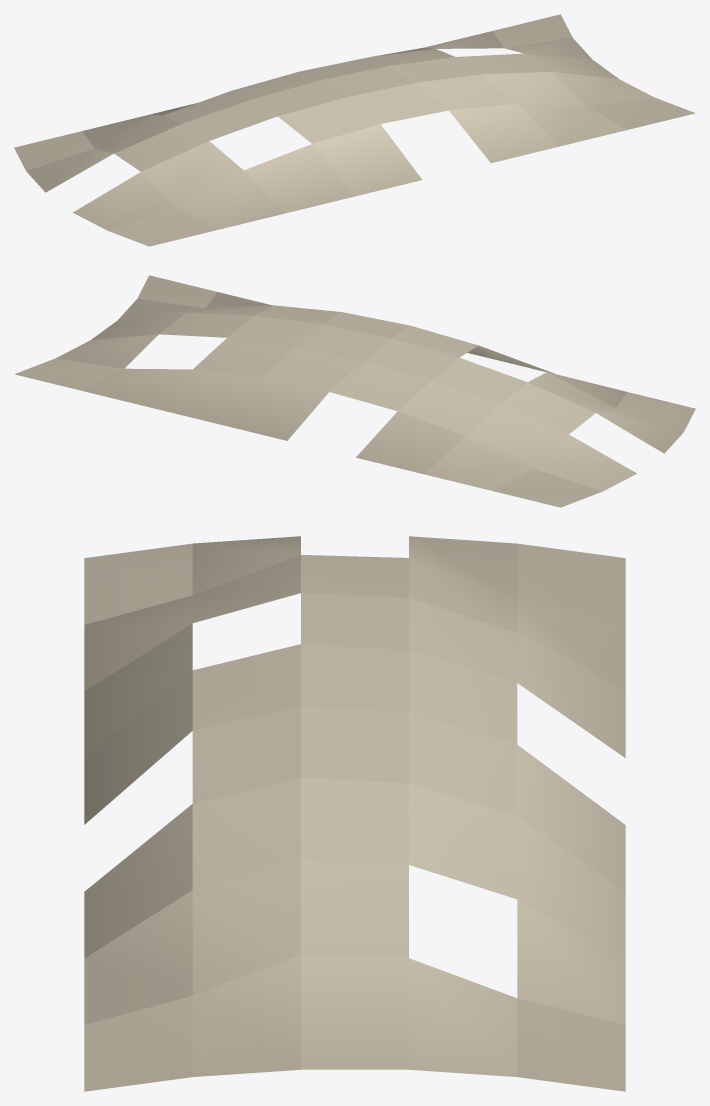
File: drift_2.glb
3 renders of one model, top to bottom at view 1: azimuth 30°, elevation 25°; view 2: azimuth 150°, elevation 25°; view 3: azimuth 270°, elevation 25°, orthographic. The views are drawn at different scales.
Parts seen in each view (by area): view 1: drift_2; view 2: drift_2; view 3: drift_2.
Boxes of the visible parts, x1,y1,x2,y2 form: drift_2: (14,14,695,246); drift_2: (14,275,695,507); drift_2: (84,536,625,1091).
Bounding box in the file's own units: 14.58 × 1.19 × 6.
